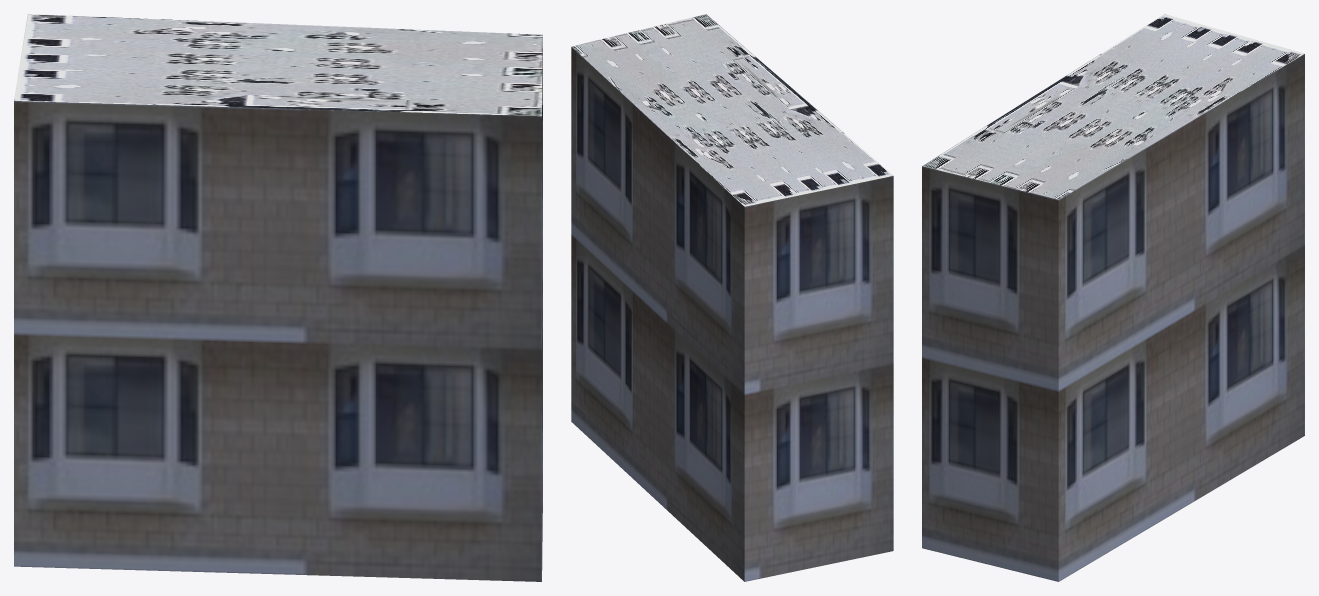
File: ResTex__2038.fbx
3 renders of one model, left to right at view 1: azimuth 30°, elevation 25°; view 2: azimuth 150°, elevation 25°; view 3: azimuth 270°, elevation 25°, orthographic. The views are drawn at different scales.
Parts seen in each view (by area): view 1: CityEngineMaterial_3_m, CityEngineMaterial_4_m; view 2: CityEngineMaterial_3_m, CityEngineMaterial_4_m; view 3: CityEngineMaterial_3_m, CityEngineMaterial_4_m.
Part boxes in pixels (x1,y1,x2,y2): CityEngineMaterial_3_m: [14, 48, 542, 581]; CityEngineMaterial_4_m: [14, 14, 542, 116]; CityEngineMaterial_3_m: [571, 47, 893, 581]; CityEngineMaterial_4_m: [571, 14, 893, 206]; CityEngineMaterial_3_m: [922, 54, 1304, 581]; CityEngineMaterial_4_m: [922, 14, 1304, 199].
Size of the model in its own units: 6.26 by 6 by 5.45.
Materials: 2 (2 with a texture image).
